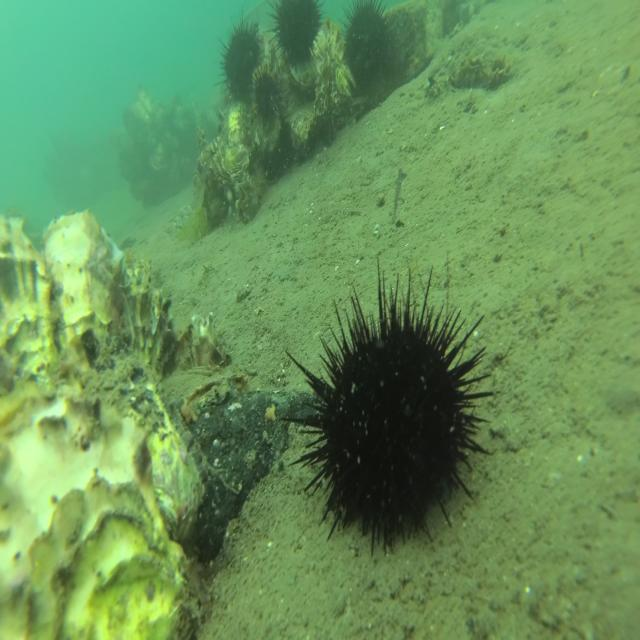echinus: (213, 3, 265, 111), (337, 0, 397, 87), (264, 0, 327, 73), (251, 59, 284, 128)
